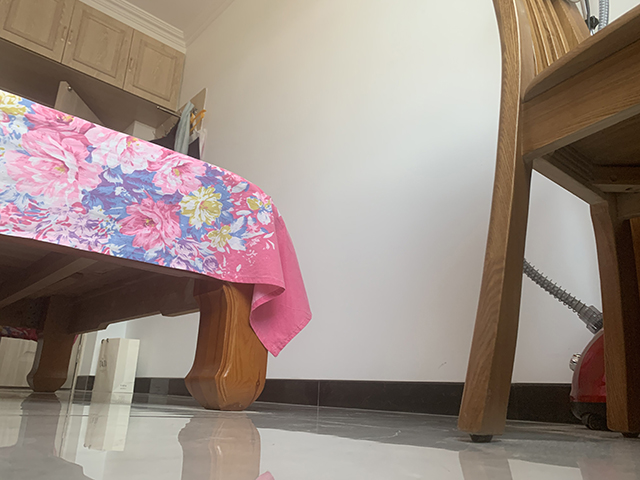bed: (1, 89, 313, 412)
stool: (457, 1, 639, 443)
